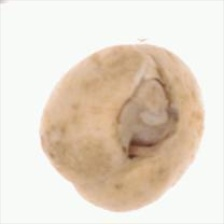L3: (114, 72, 177, 157)
L4: (39, 43, 204, 212)
